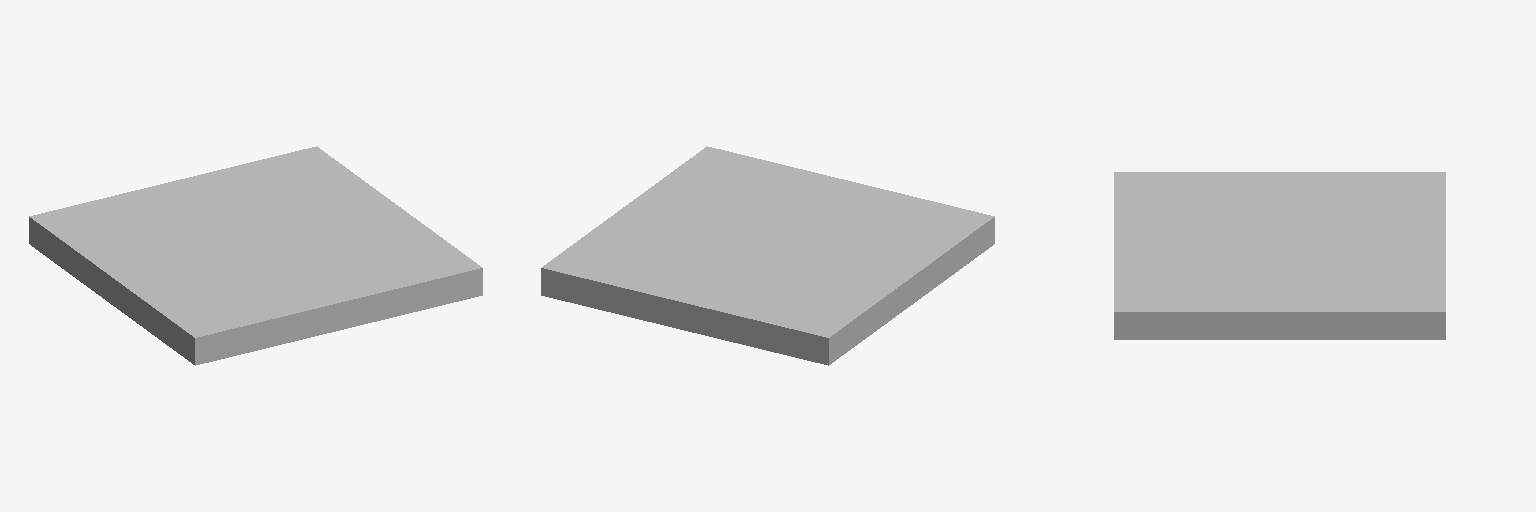
Rendered from blenderchess.obj.
3 renders of one model, left to right at view 1: azimuth 30°, elevation 25°; view 2: azimuth 150°, elevation 25°; view 3: azimuth 270°, elevation 25°, orthographic.
Visible parts, largest first — view 1: Cube; view 2: Cube; view 3: Cube.
Boxes of the visible parts, x1=… form: Cube: x1=29, y1=146, x2=482, y2=365; Cube: x1=541, y1=146, x2=994, y2=365; Cube: x1=1114, y1=172, x2=1445, y2=339.
Bounding box in the file's own units: 8 × 0.7343 × 8.